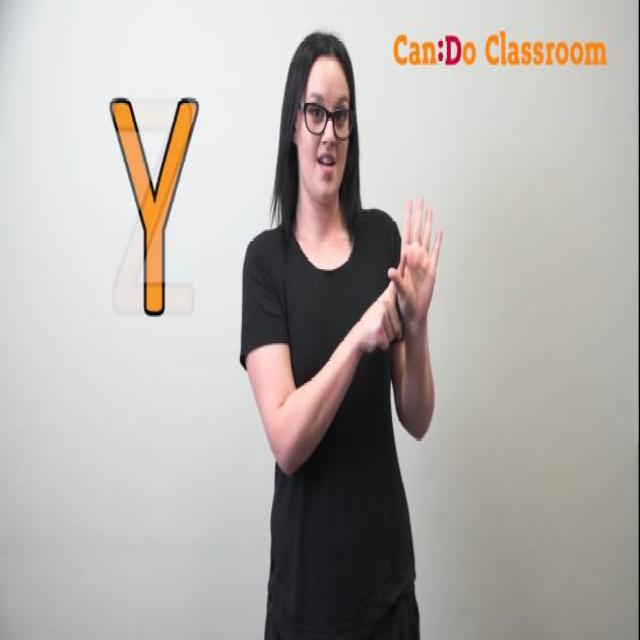Y: (357, 194, 452, 378)
